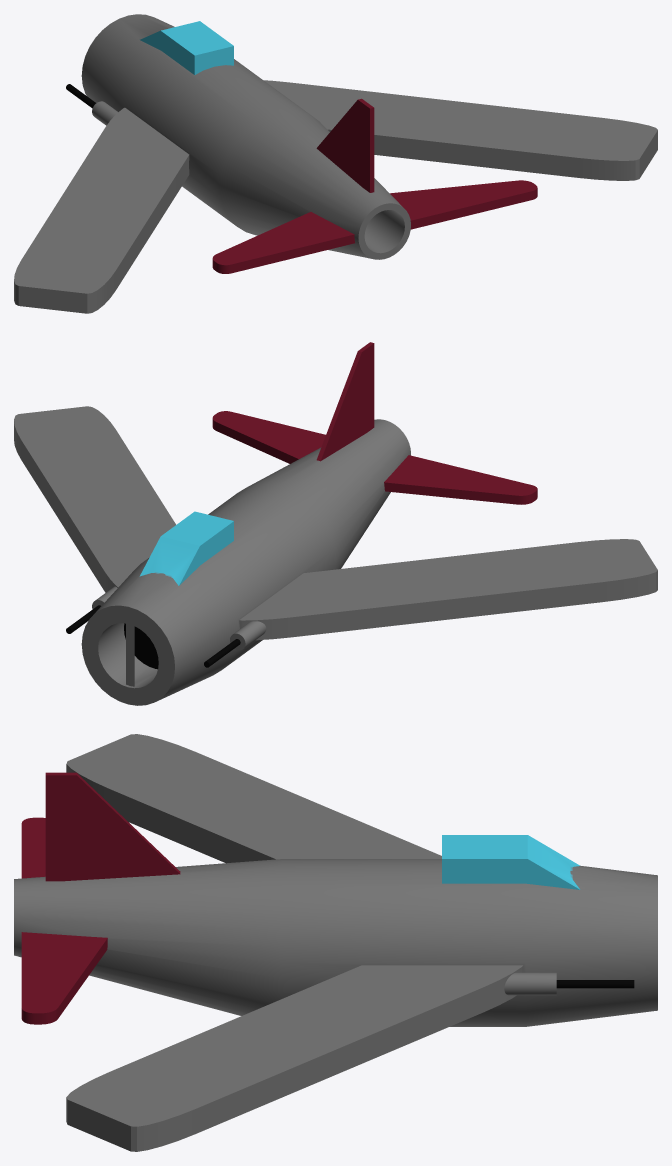
File: enemy.obj
3 renders of one model, top to bottom at view 1: azimuth 30°, elevation 25°; view 2: azimuth 150°, elevation 25°; view 3: azimuth 270°, elevation 25°, orthographic. The views are drawn at different scales.
Parts seen in each view (by area): view 1: 円柱.001; view 2: 円柱.001; view 3: 円柱.001.
Boxes of the visible parts, x1,y1,x2,y2 form: 円柱.001: (14,14,657,313); 円柱.001: (14,342,657,705); 円柱.001: (14,734,657,1151).
Bounding box in the file's own units: 4.7 × 1.37 × 3.26.
1 material, 1 textured.
